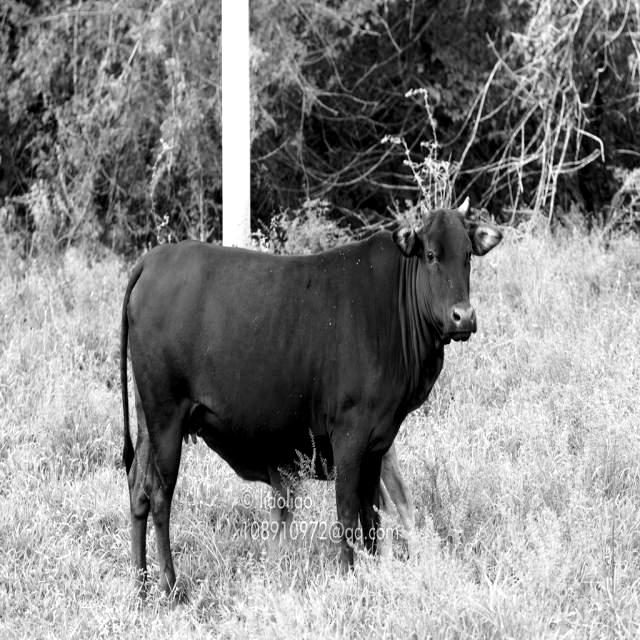COW: (121, 204, 501, 602)
